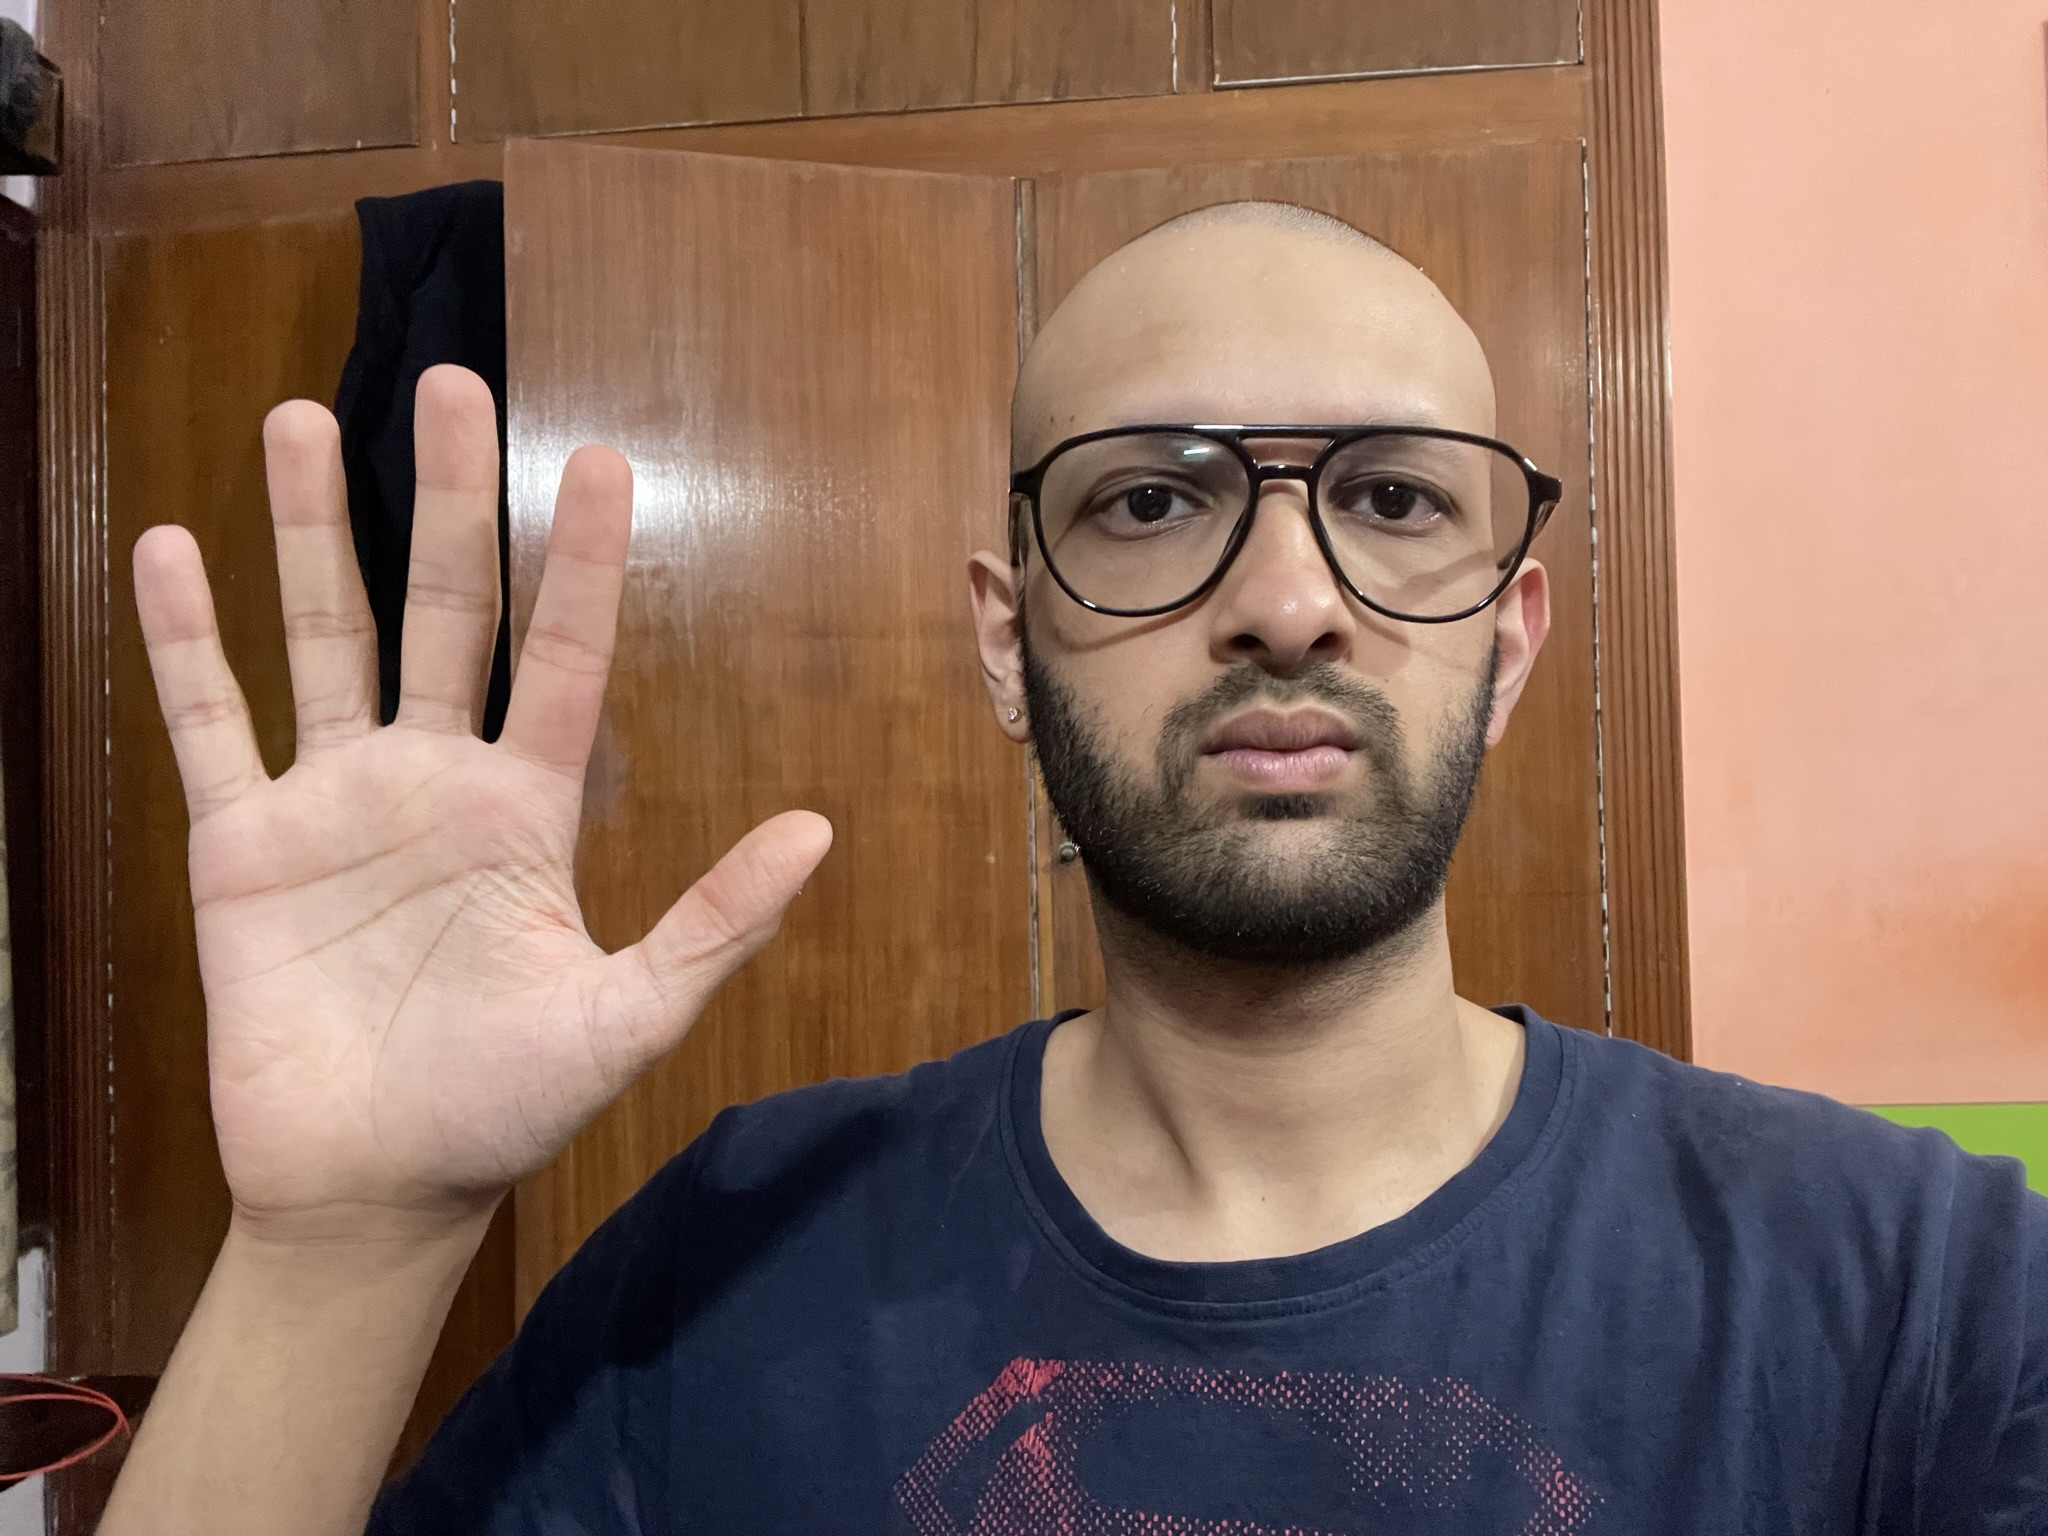Hello: (119, 357, 845, 1233)
